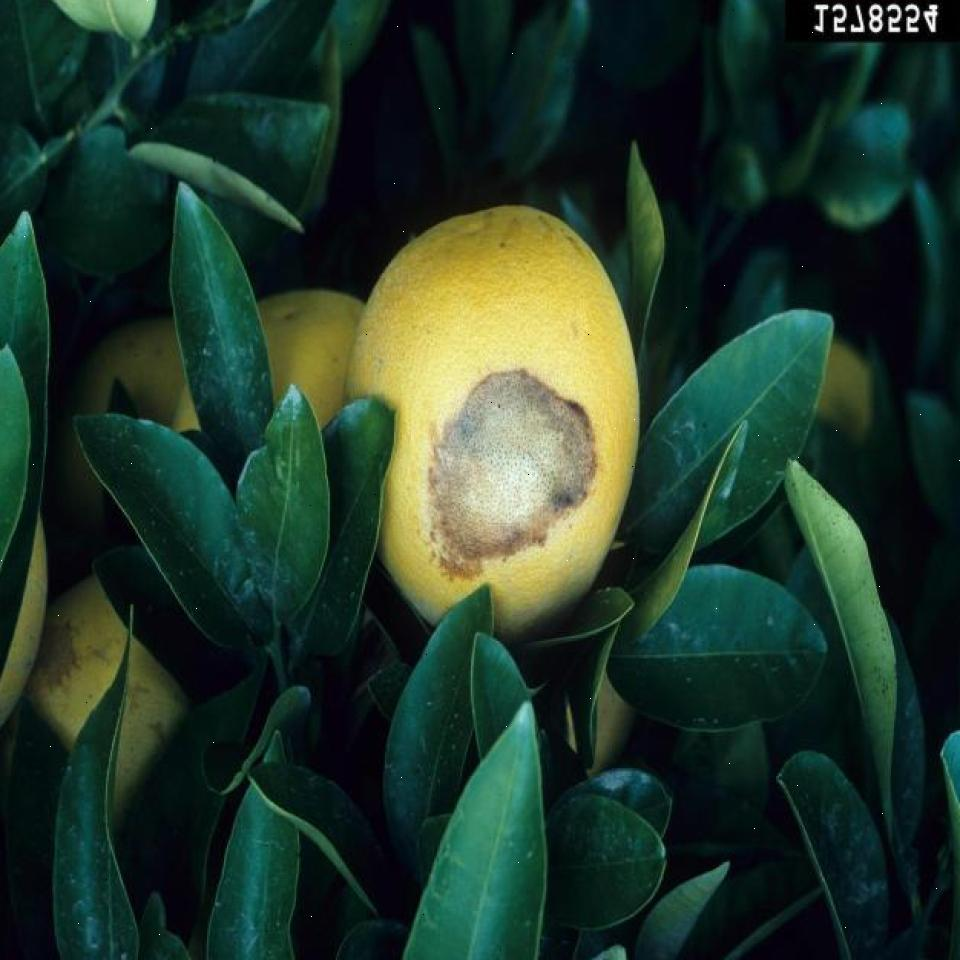Blossom_end_rot: (416, 344, 592, 584)
